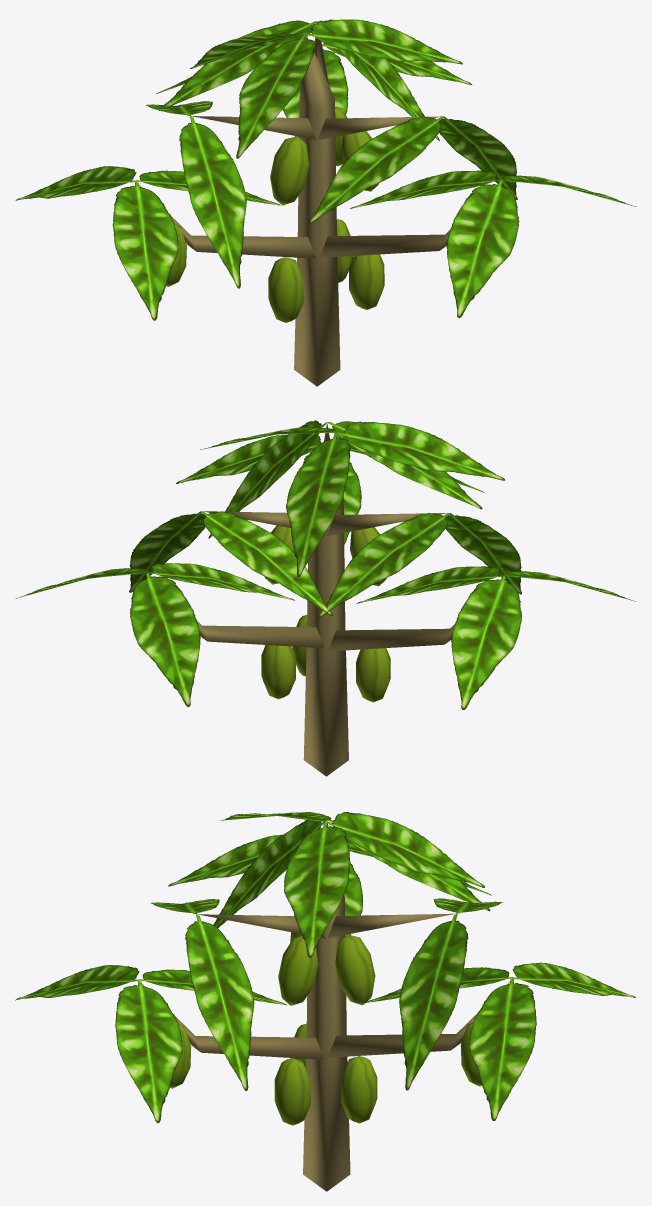
The model's file is cacau verde.fbx.
3 views of the same model, one above another, from view 1: azimuth 30°, elevation 25°; view 2: azimuth 150°, elevation 25°; view 3: azimuth 270°, elevation 25° (orthographic). The views are drawn at different scales.
Visible parts, largest first — view 1: cacau verde; view 2: cacau verde; view 3: cacau verde.
Boxes of the visible parts, x1,y1,x2,y2 form: cacau verde: (15,19,636,386); cacau verde: (15,420,635,776); cacau verde: (15,812,635,1191).
Bounding box in the file's own units: 237 × 163 × 259.
3 materials, 2 textured.
